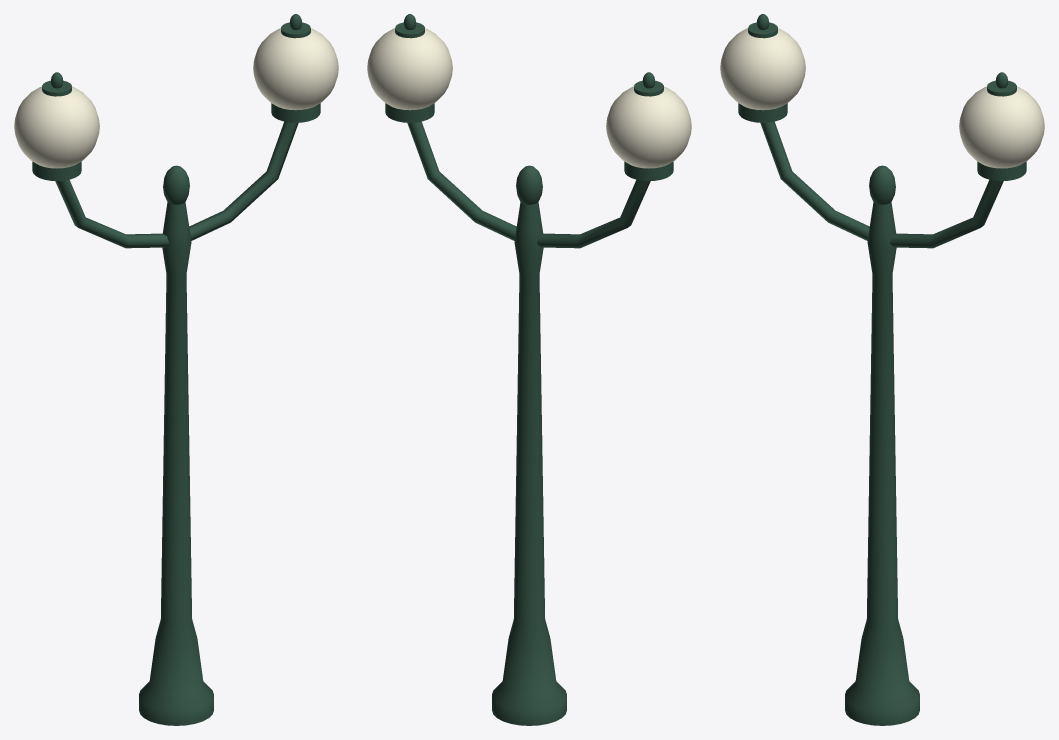
File: street_double_globe.glb
3 renders of one model, left to right at view 1: azimuth 30°, elevation 25°; view 2: azimuth 150°, elevation 25°; view 3: azimuth 330°, elevation 25°, orthographic.
Visible parts, largest first — view 1: Ornamental street post, Opaque globe lantern.001, Opaque globe lantern, Swept twin globe arm.001, Swept twin globe arm, Post cap finial, Globe metal cup.001, Globe metal cup; view 2: Ornamental street post, Opaque globe lantern.001, Opaque globe lantern, Swept twin globe arm.001, Swept twin globe arm, Post cap finial, Globe metal cup.001, Globe metal cup; view 3: Ornamental street post, Opaque globe lantern, Opaque globe lantern.001, Swept twin globe arm, Swept twin globe arm.001, Post cap finial, Globe metal cup, Globe metal cup.001.
Part boxes in pixels (left/top/right/bottom): Ornamental street post: left=139, top=202, right=213, bottom=725; Opaque globe lantern.001: left=253, top=28, right=338, bottom=110; Opaque globe lantern: left=14, top=86, right=99, bottom=168; Swept twin globe arm.001: left=189, top=121, right=298, bottom=240; Swept twin globe arm: left=55, top=180, right=168, bottom=248; Post cap finial: left=163, top=165, right=189, bottom=204; Globe metal cup.001: left=271, top=103, right=320, bottom=122; Globe metal cup: left=32, top=161, right=81, bottom=181; Ornamental street post: left=492, top=202, right=566, bottom=725; Opaque globe lantern.001: left=367, top=28, right=452, bottom=110; Opaque globe lantern: left=606, top=86, right=691, bottom=168; Swept twin globe arm.001: left=407, top=121, right=516, bottom=240; Swept twin globe arm: left=537, top=180, right=650, bottom=248; Post cap finial: left=516, top=165, right=542, bottom=204; Globe metal cup.001: left=385, top=103, right=434, bottom=122; Globe metal cup: left=624, top=161, right=673, bottom=181; Ornamental street post: left=845, top=202, right=919, bottom=725; Opaque globe lantern: left=720, top=28, right=805, bottom=110; Opaque globe lantern.001: left=959, top=86, right=1044, bottom=168; Swept twin globe arm: left=760, top=121, right=869, bottom=240; Swept twin globe arm.001: left=890, top=180, right=1003, bottom=248; Post cap finial: left=869, top=165, right=895, bottom=204; Globe metal cup: left=738, top=103, right=787, bottom=122; Globe metal cup.001: left=977, top=161, right=1026, bottom=181.
Size of the model in its own units: 1.73 by 3.52 by 0.41.
